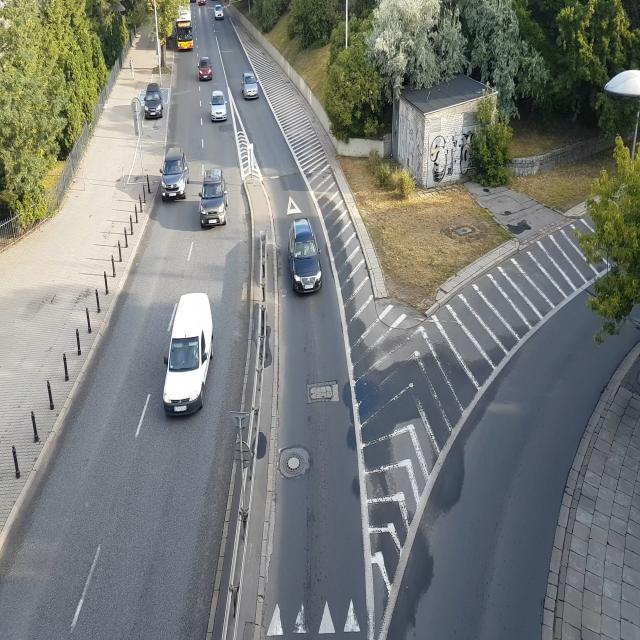bus: (171, 16, 194, 50)
car: (165, 283, 218, 420), (290, 218, 324, 294), (200, 167, 229, 228), (160, 146, 190, 200), (142, 86, 165, 120), (211, 92, 230, 122), (242, 80, 260, 99), (198, 57, 212, 80), (215, 5, 225, 20), (196, 0, 206, 9)
